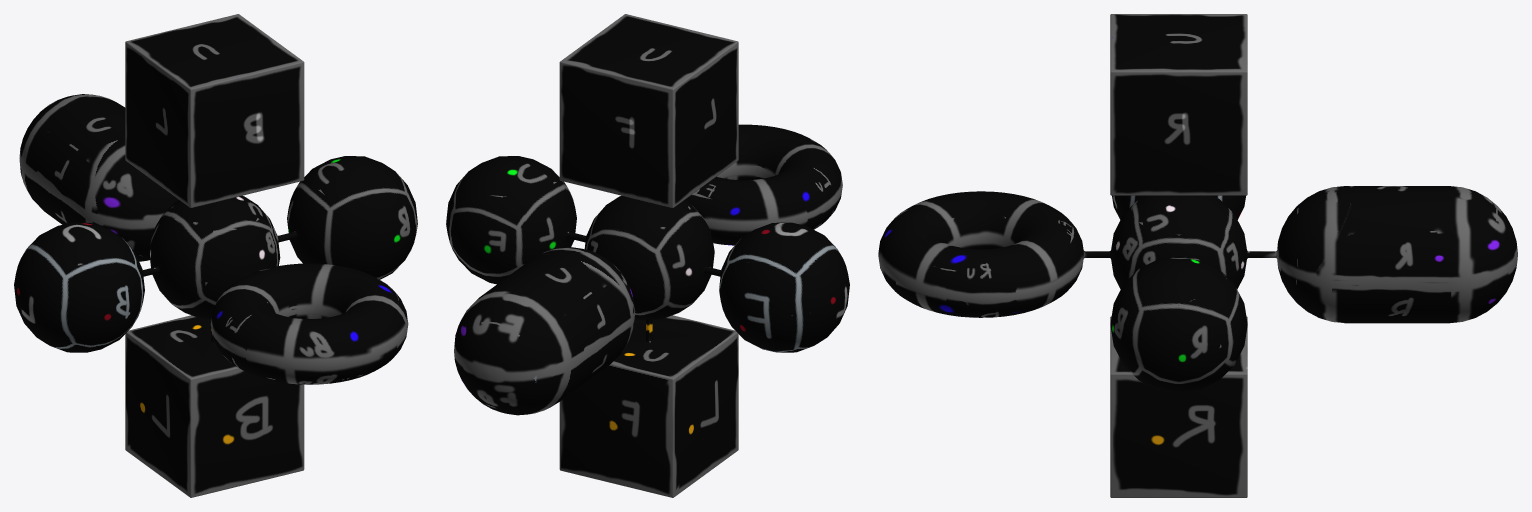
Rendered from Level.glb.
The picture shows the model from 3 angles, left to right: view 1: azimuth 30°, elevation 25°; view 2: azimuth 150°, elevation 25°; view 3: azimuth 270°, elevation 25°; orthographic projection. The views are drawn at different scales.
Visible parts, largest first — view 1: Level; view 2: Level; view 3: Level.
Part boxes in pixels (x1,y1,x2,y2): Level: [14, 14, 417, 497]; Level: [446, 14, 849, 497]; Level: [878, 14, 1517, 497].
Size of the model in its own units: 678 by 685 by 931.
10 materials, 10 textured.
